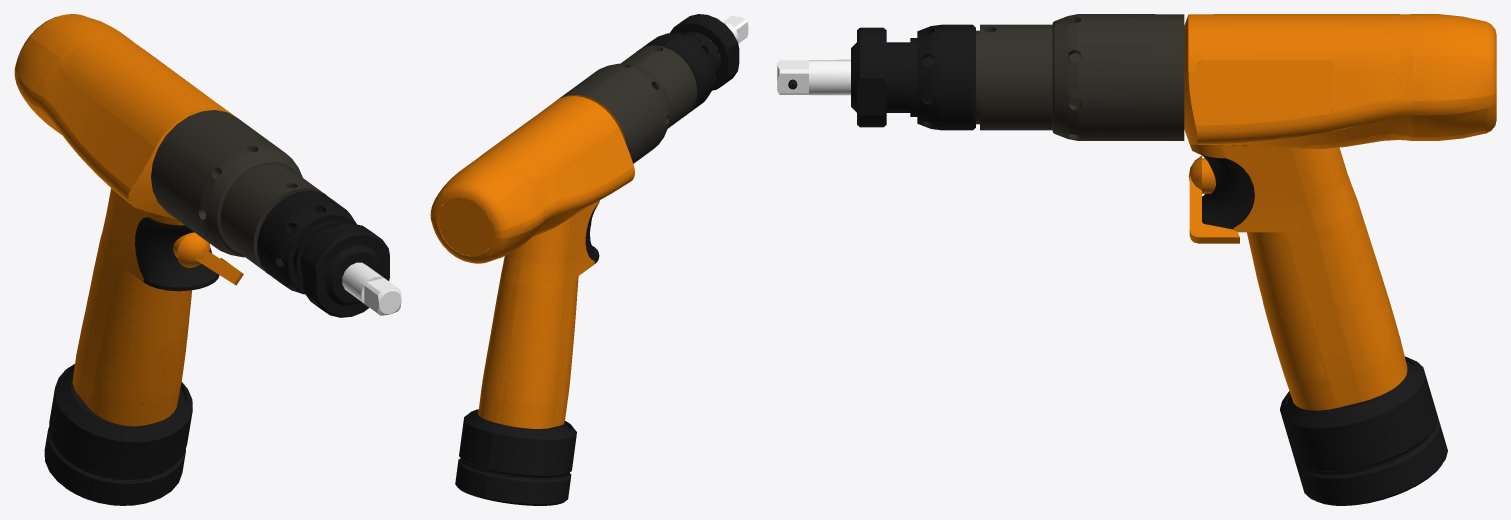
The model's file is Schrauber_Pistole.dae.
3 renders of one model, left to right at view 1: azimuth 30°, elevation 25°; view 2: azimuth 150°, elevation 25°; view 3: azimuth 270°, elevation 25°, orthographic. The views are drawn at different scales.
Parts seen in each view (by area): view 1: schrauber_pistolengriff; view 2: schrauber_pistolengriff; view 3: schrauber_pistolengriff.
Boxes of the visible parts, <box> form: schrauber_pistolengriff: <box>14,14,401,505</box>; schrauber_pistolengriff: <box>430,14,748,505</box>; schrauber_pistolengriff: <box>777,14,1496,505</box>.
Bounding box in the file's own units: 56.93 × 243 × 175.
